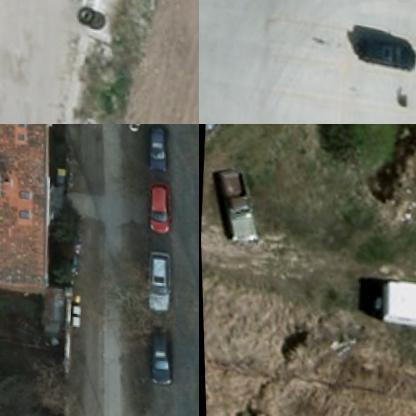camping car: (377, 275, 415, 336)
car: (350, 30, 415, 68), (139, 245, 170, 307), (140, 323, 171, 384), (141, 124, 170, 173), (144, 181, 171, 231)
pickup: (212, 164, 258, 245)
